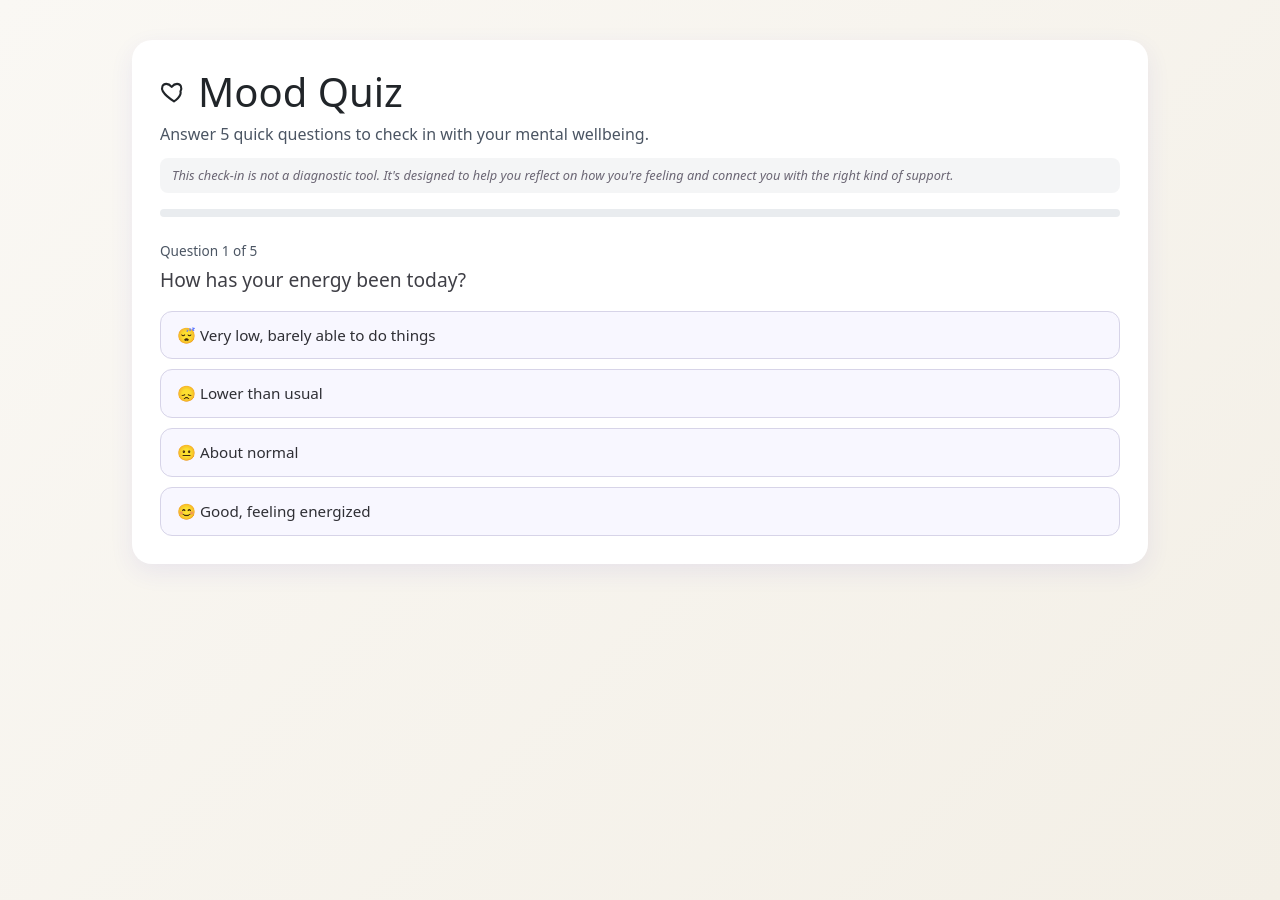
Test: MoodChecker quiz completion › resets back to question 1 when Retake Quiz is clicked
The width and height of the screenshot is (1280, 900).
Click the button "😐 About normal": [238, 452] box [160,428,1120,477]
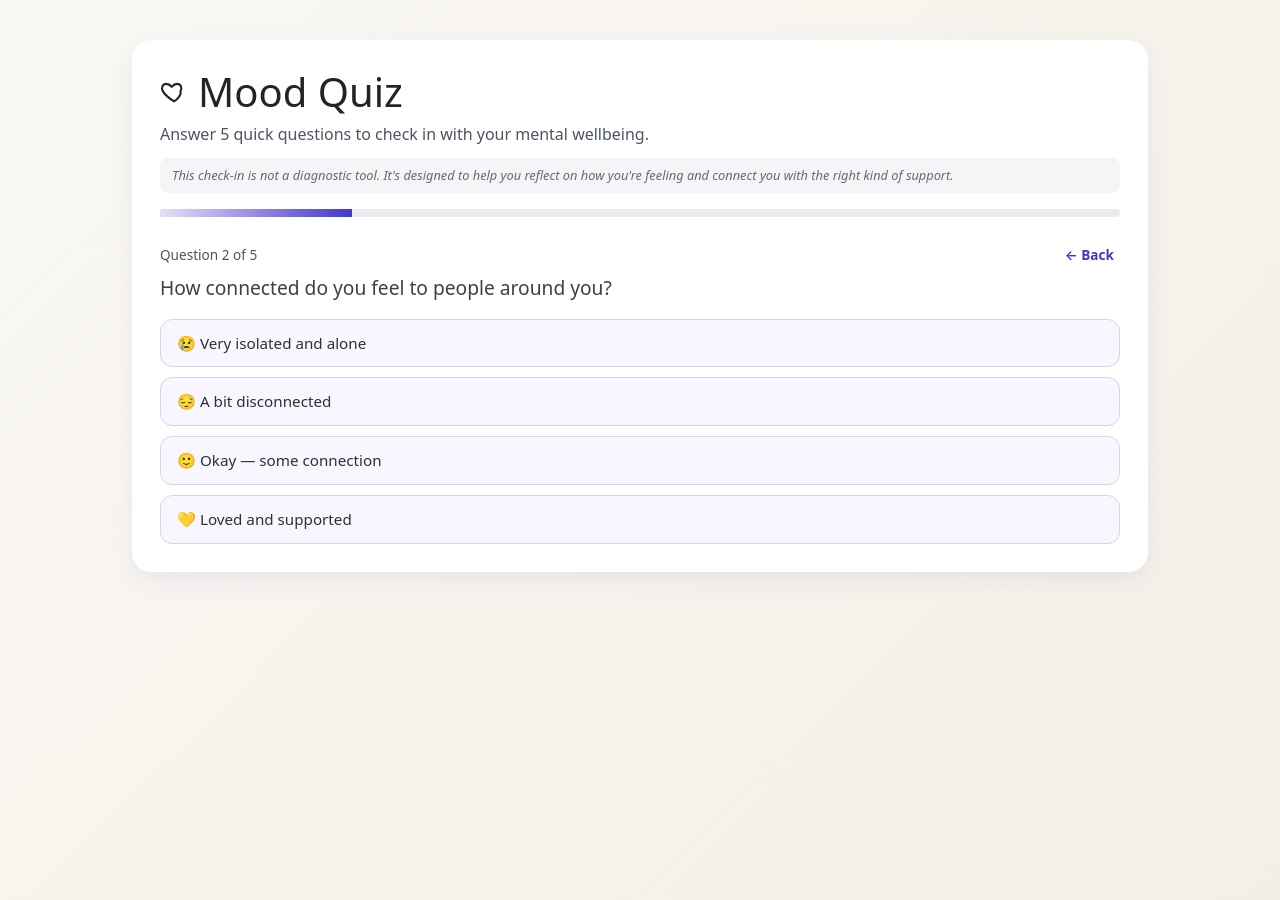
Click the button "🙂 Okay — some connection": [279, 460] box [160,436,1120,485]
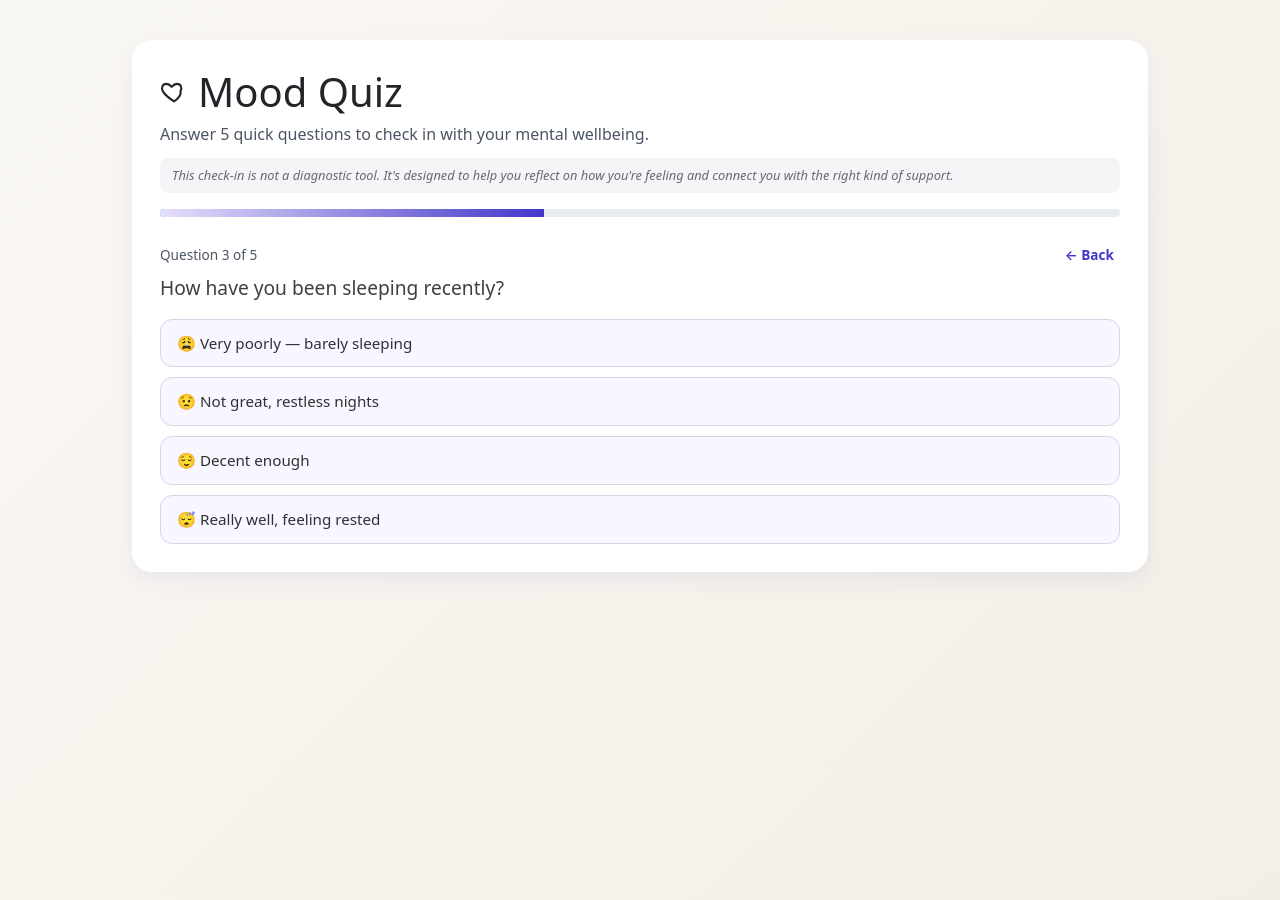
Click the button "😌 Decent enough": [243, 460] box [160,436,1120,485]
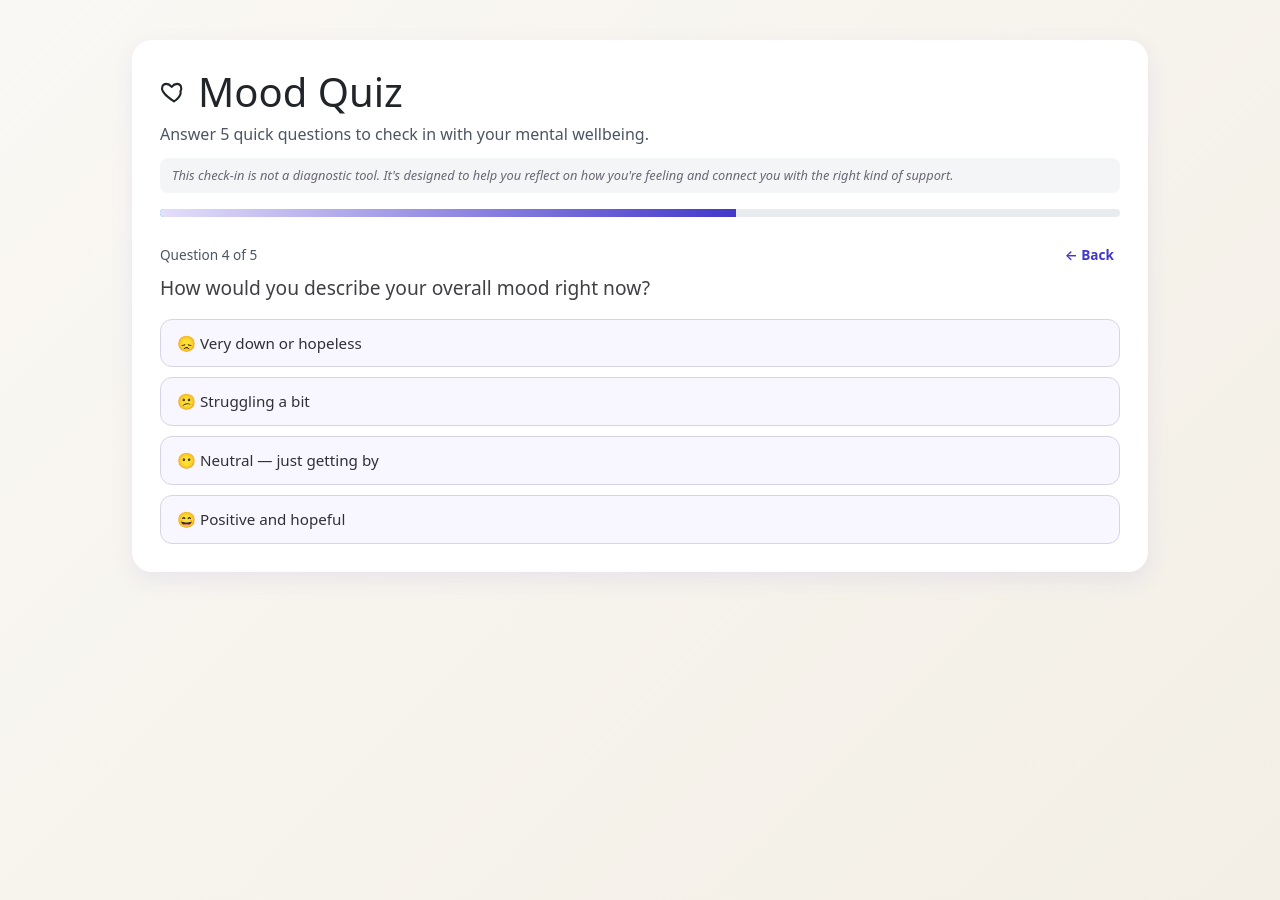
Click the button "😶 Neutral — just getting by": [278, 460] box [160,436,1120,485]
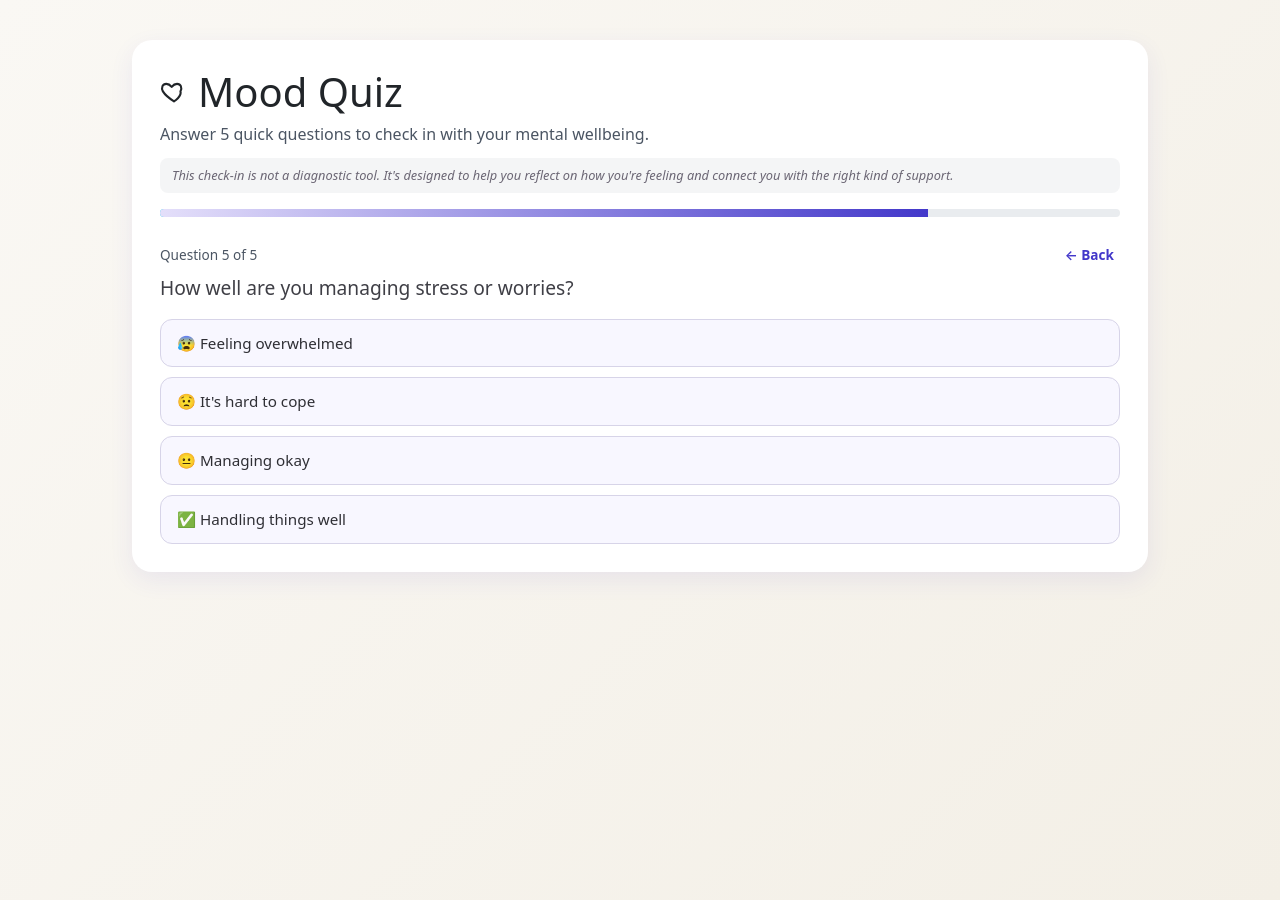
Click the button "😐 Managing okay": [243, 460] box [160,436,1120,485]
(page scrolled)
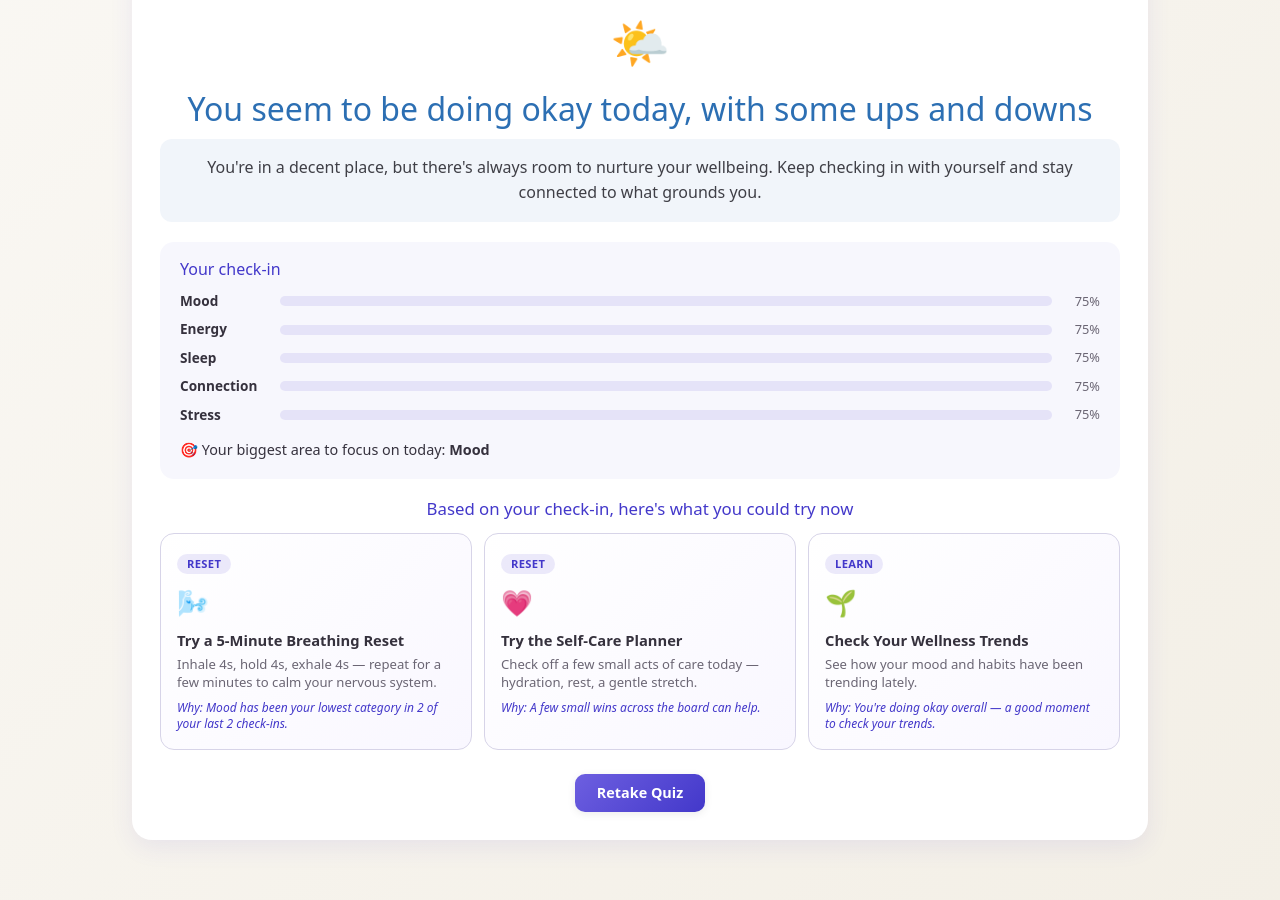
Click the button "Retake Quiz": [640, 793] box [575,774,705,812]
(page scrolled)
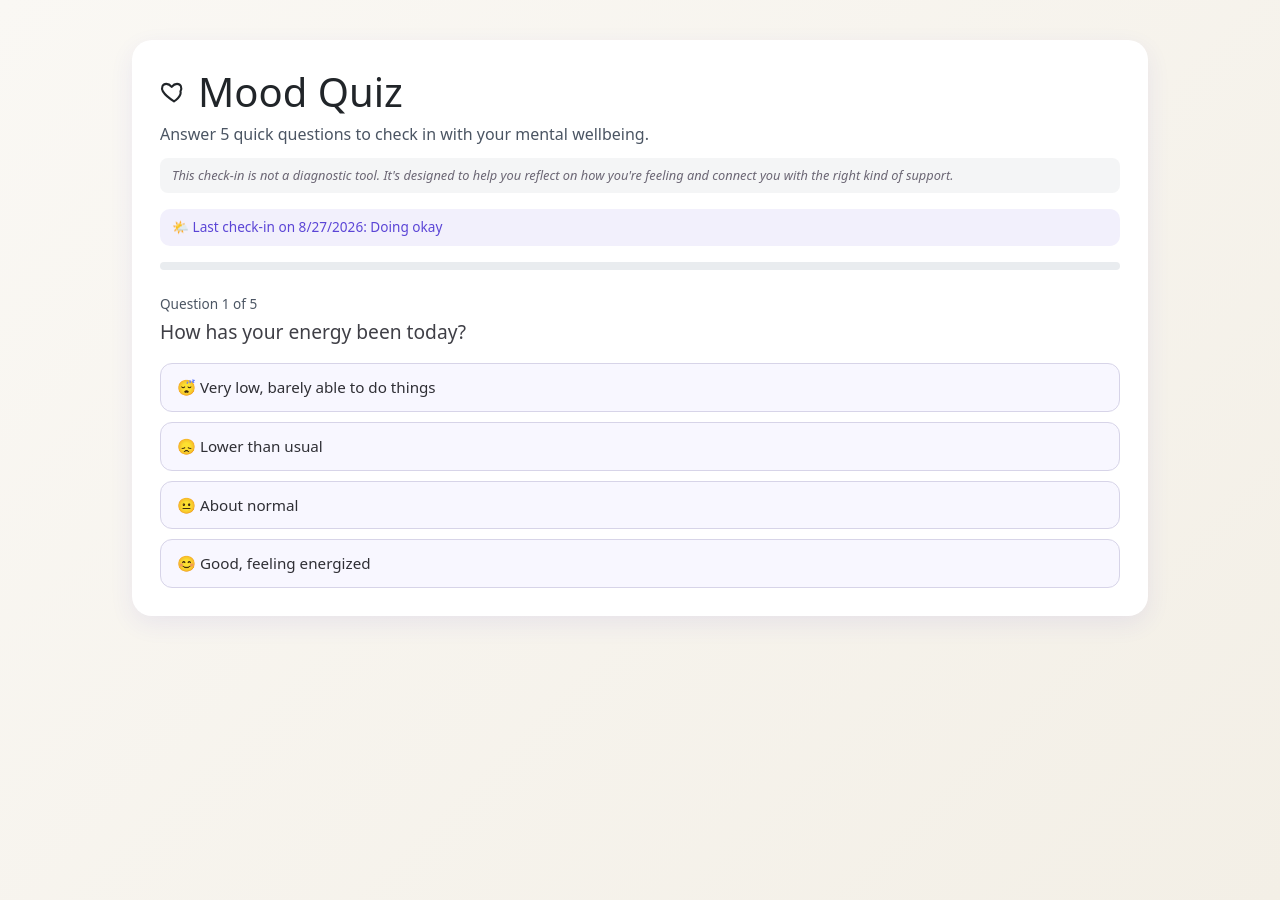
Expected: the text "Question 1 of 5" is shown, [160,294,257,314]
